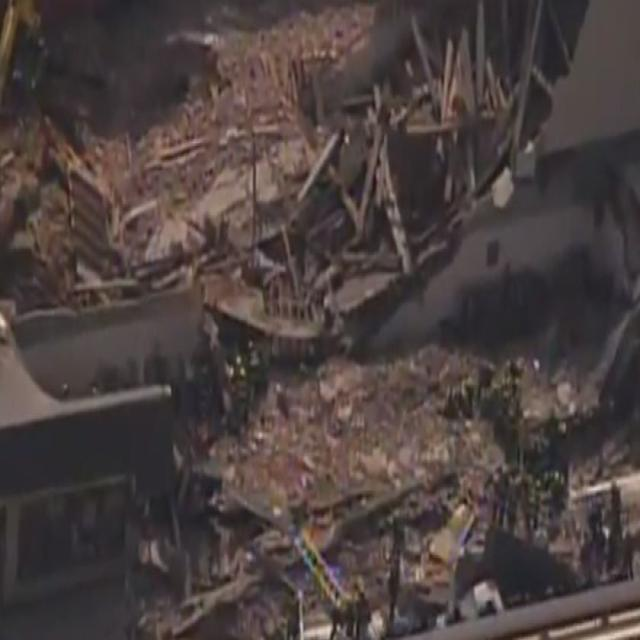collapsed_building: (68, 0, 624, 338)
